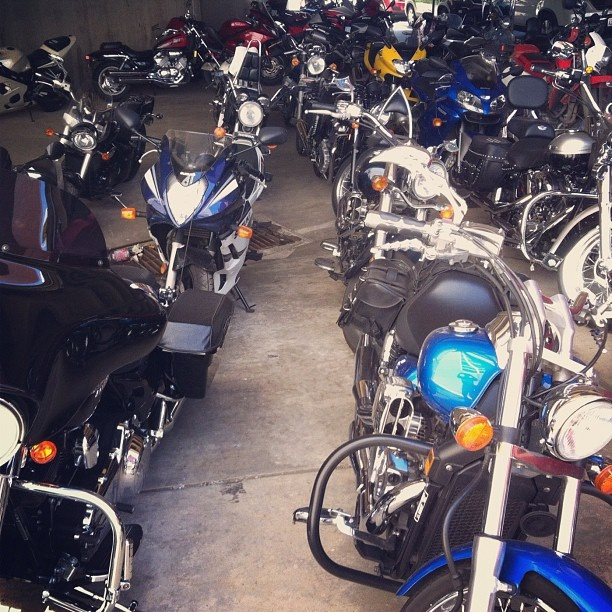non-vehicle: (293, 206, 612, 603), (2, 148, 233, 603), (454, 39, 611, 325), (111, 105, 269, 316), (302, 93, 469, 285), (83, 6, 230, 100), (347, 12, 447, 137), (410, 55, 523, 149), (37, 66, 107, 193), (208, 35, 270, 147), (0, 33, 77, 123)
